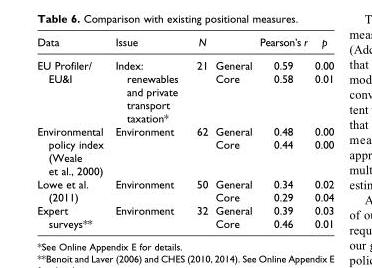table: (36, 36, 333, 229)
table column: (108, 36, 186, 229), (36, 36, 108, 229), (255, 36, 310, 229), (211, 36, 255, 229), (186, 36, 211, 229), (310, 36, 333, 229)
table column header: (36, 36, 333, 54)
table row: (36, 72, 333, 125), (36, 138, 333, 177), (36, 36, 333, 54), (36, 54, 333, 72), (36, 177, 333, 191), (36, 125, 333, 138), (36, 191, 333, 204), (36, 204, 333, 217), (36, 217, 333, 229)
table spanning cell: (108, 54, 186, 125), (36, 54, 108, 125), (108, 125, 186, 177), (36, 125, 108, 177), (108, 177, 186, 204), (108, 204, 186, 229), (36, 177, 108, 204), (36, 204, 108, 229), (186, 54, 211, 125), (186, 125, 211, 177), (186, 177, 211, 204), (186, 204, 211, 229)
